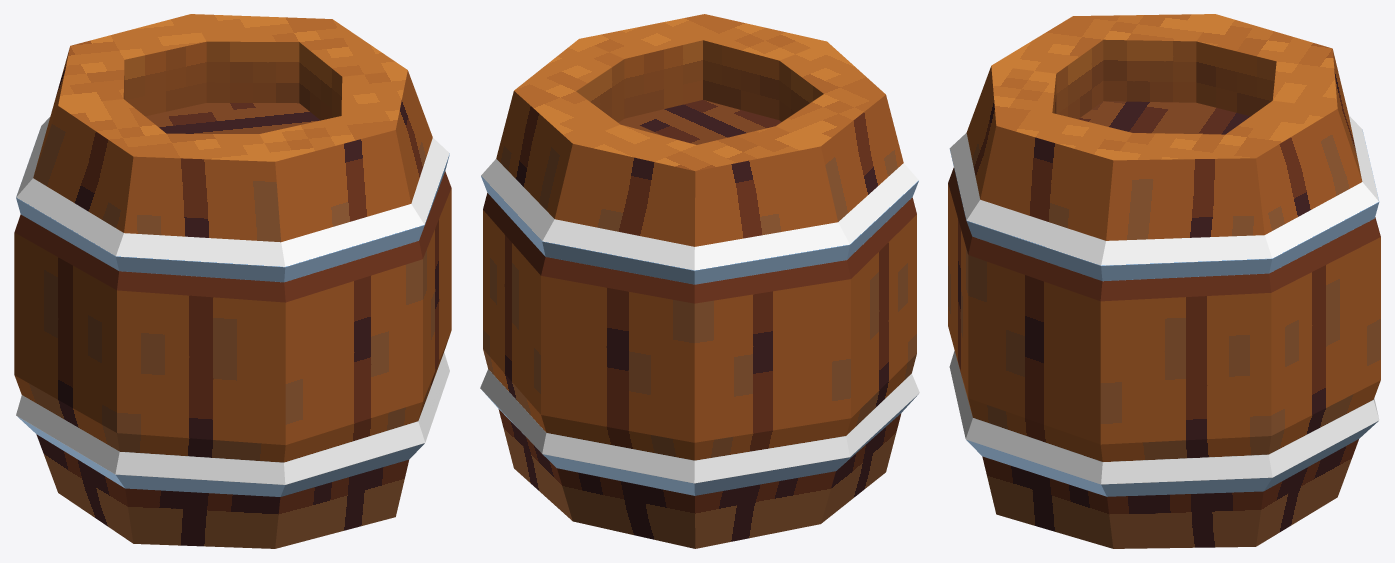
The model's file is Barrel.glb.
The picture shows the model from 3 angles, left to right: view 1: azimuth 30°, elevation 25°; view 2: azimuth 150°, elevation 25°; view 3: azimuth 270°, elevation 25°; orthographic projection. The views are drawn at different scales.
Visible parts, largest first — view 1: Cylinder; view 2: Cylinder; view 3: Cylinder.
Part boxes in pixels (bbox=[...]): Cylinder: bbox=[14, 14, 451, 548]; Cylinder: bbox=[480, 14, 919, 548]; Cylinder: bbox=[948, 14, 1380, 548].
Size of the model in its own units: 1.2 by 1.19 by 1.2.
Materials: 1 (1 with a texture image).
